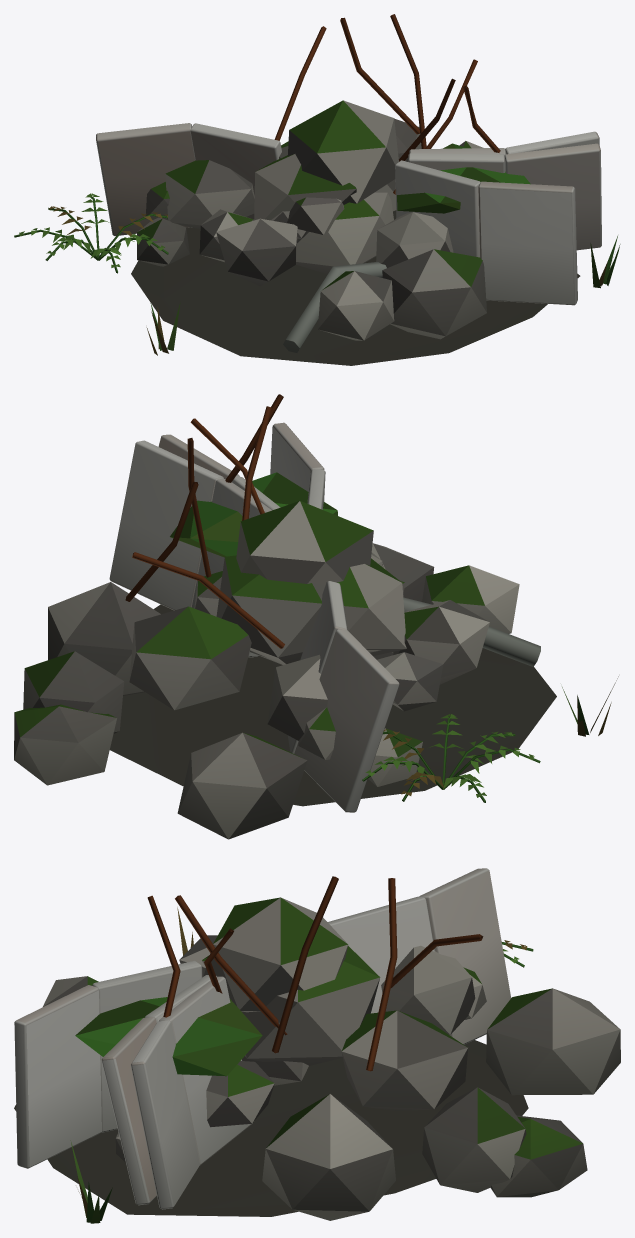
The model's file is rubble_pile.glb.
3 renders of one model, top to bottom at view 1: azimuth 30°, elevation 25°; view 2: azimuth 150°, elevation 25°; view 3: azimuth 270°, elevation 25°, orthographic. The views are drawn at different scales.
Visible parts, largest first — view 1: Mesh; view 2: Mesh; view 3: Mesh.
Boxes of the visible parts, box(x1,y1,x2,y2) form: Mesh: box(14, 14, 620, 365); Mesh: box(14, 394, 618, 839); Mesh: box(14, 868, 620, 1223).
Size of the model in its own units: 3.3 by 1.68 by 3.07.
